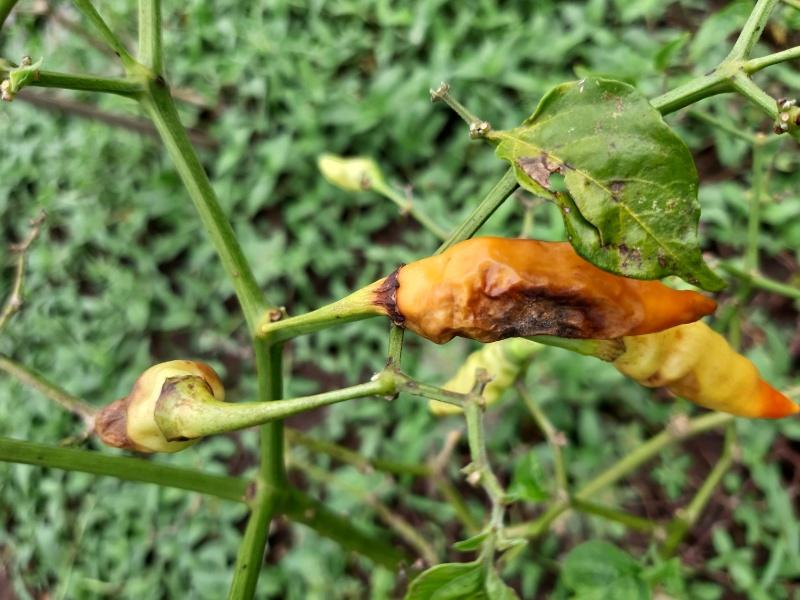antraknosa: (395, 237, 719, 345), (614, 317, 798, 418), (94, 362, 224, 454)
